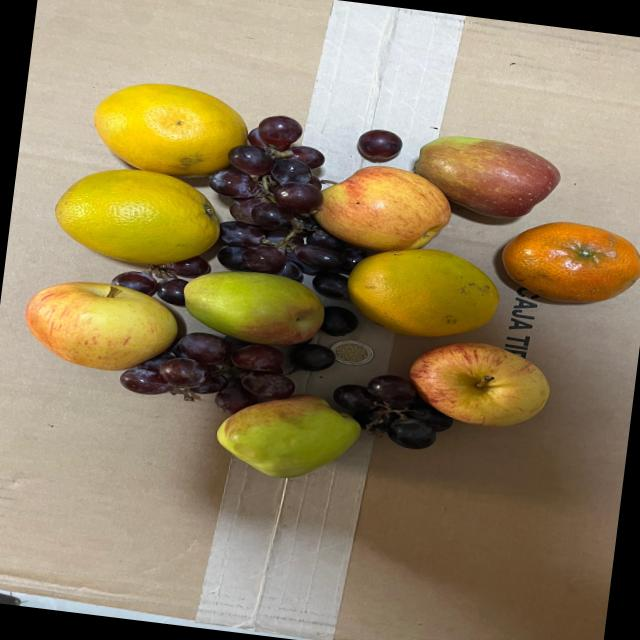moneda: (328, 336, 378, 371)
